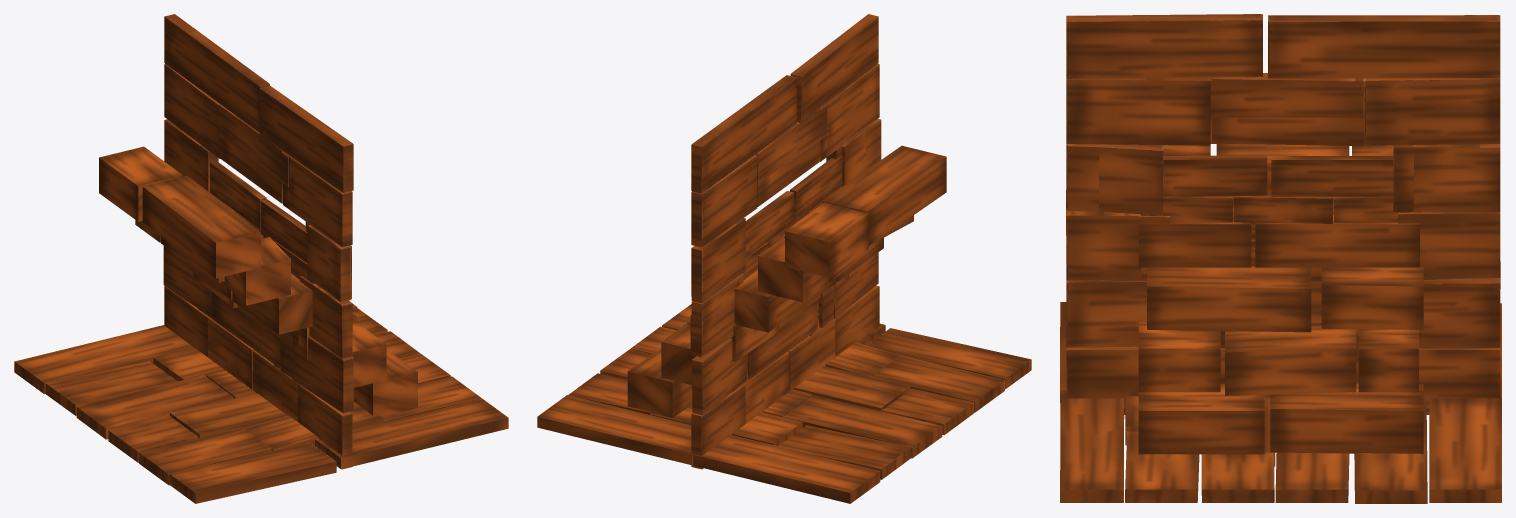
The model's file is BuildingsOriginReorganizer.fbx.
3 views of the same model, side by side, from view 1: azimuth 30°, elevation 25°; view 2: azimuth 150°, elevation 25°; view 3: azimuth 270°, elevation 25° (orthographic). The views are drawn at different scales.
Visible parts, largest first — view 1: CHAO.007, PAREDE.009, ESCADA.001, PAREDE.007, PAREDE.001; view 2: CHAO.007, PAREDE.009, ESCADA.001, PAREDE.007, PAREDE.001; view 3: PAREDE.007, ESCADA.001, CHAO.007, PAREDE.009, PAREDE.001.
Boxes of the visible parts, x1=… form: CHAO.007: x1=14, y1=304, x2=508, y2=503; PAREDE.009: x1=164, y1=14, x2=353, y2=469; ESCADA.001: x1=99, y1=146, x2=417, y2=416; PAREDE.007: x1=163, y1=14, x2=352, y2=421; PAREDE.001: x1=198, y1=161, x2=314, y2=369; CHAO.007: x1=537, y1=304, x2=1031, y2=503; PAREDE.009: x1=692, y1=14, x2=881, y2=469; ESCADA.001: x1=627, y1=145, x2=946, y2=417; PAREDE.007: x1=691, y1=73, x2=878, y2=469; PAREDE.001: x1=732, y1=156, x2=842, y2=392; PAREDE.007: x1=1067, y1=14, x2=1500, y2=414; ESCADA.001: x1=1138, y1=78, x2=1423, y2=454; CHAO.007: x1=1060, y1=302, x2=1501, y2=503; PAREDE.009: x1=1066, y1=14, x2=1499, y2=414; PAREDE.001: x1=1140, y1=155, x2=1421, y2=349.
Size of the model in its own units: 3.14 by 3.1 by 3.15.
Materials: 5 (5 with a texture image).
